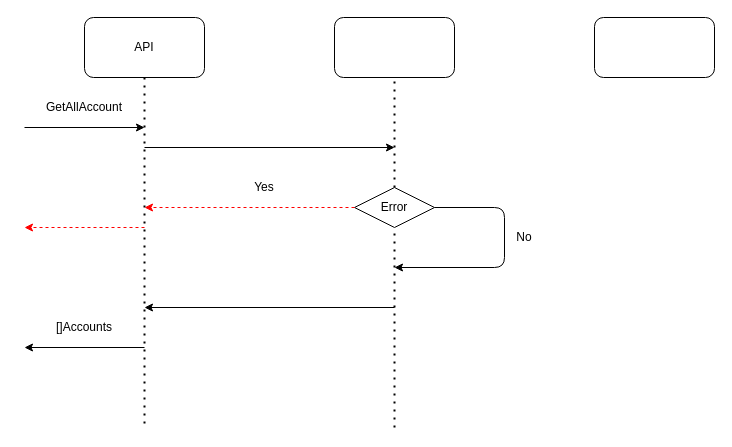
This 732x447 diagram has some shape labels left out. The shapes that lost their labels are listed below. From the top down, each one's centre as x and y in pixels, then its label:
At (394,47): "Client".
At (654,47): "Fabric".
